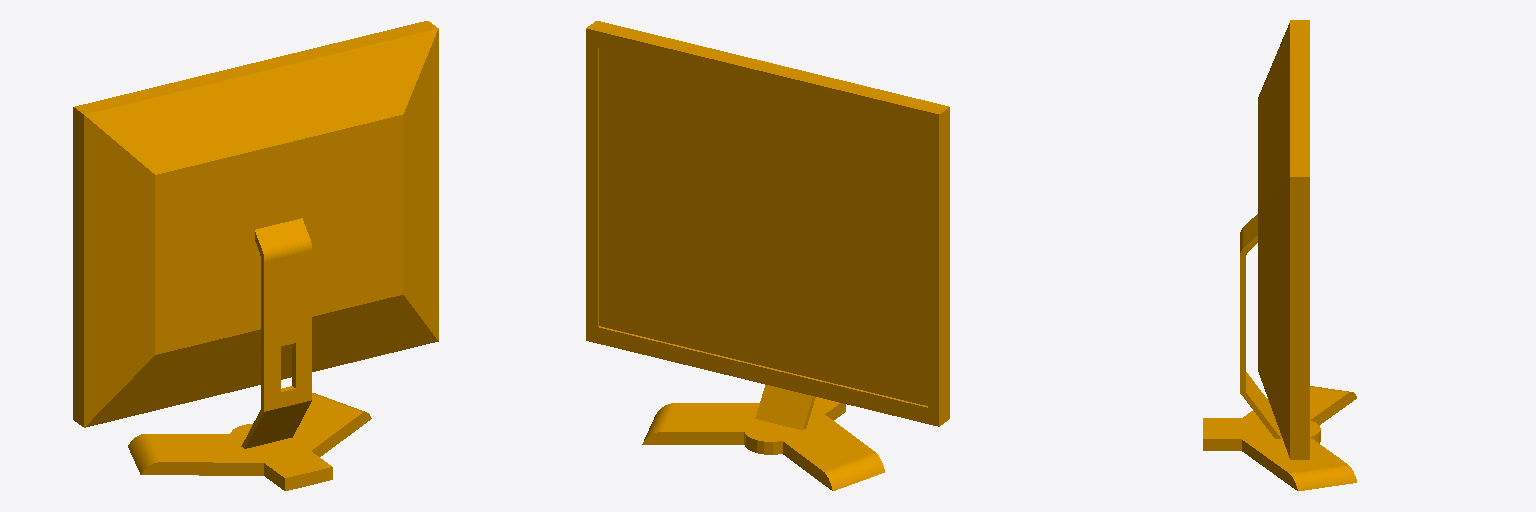
The robot description file, URDF, robot "3c4c7ec7ffdfec50f39105e1e4d2e270":
<?xml version="1.0" ?>
<robot name="3c4c7ec7ffdfec50f39105e1e4d2e270">

  <link name="base">

    <inertial>
      <mass value="1"/>
      <inertia ixx="1" ixy="0" ixz="0" iyy="1" iyz="0" izz="1"/>
    </inertial>

    <visual>
      <origin rpy="1.57079 0 0" xyz="0 0 0.13"/>
      <geometry>
        <mesh filename ="models/model_normalized.obj" scale="1 1 1"/>
      </geometry>
    </visual>

    <collision>
      <origin rpy="1.57079 0 0" xyz="0 0 0.13"/>
      <geometry>
        <mesh filename ="models/model_normalized.obj" scale="1 1 1"/>
      </geometry>
    </collision>

  </link>
  
</robot>

--- What the picture shows (computed from the rendered views, not written in the file) ---
3 views of the same robot in one strip: view 1: azimuth 30°, elevation 25°; view 2: azimuth 150°, elevation 25°; view 3: azimuth 270°, elevation 25° (orthographic).
Robot: 3c4c7ec7ffdfec50f39105e1e4d2e270 — 1 links, 0 joints (none); root link base; default pose: all joints at 0.
Links seen in each view (by area): view 1: base; view 2: base; view 3: base.
Boxes of the visible links, x1,y1,x2,y2 form: base: (73,21,438,490); base: (586,21,949,490); base: (1203,20,1356,490).
Bounding box of the posed robot: 0.6718 × 0.2808 × 0.6855 m (x, y, z).
1 mesh visuals loaded from 1 distinct referenced files (1 OBJ).